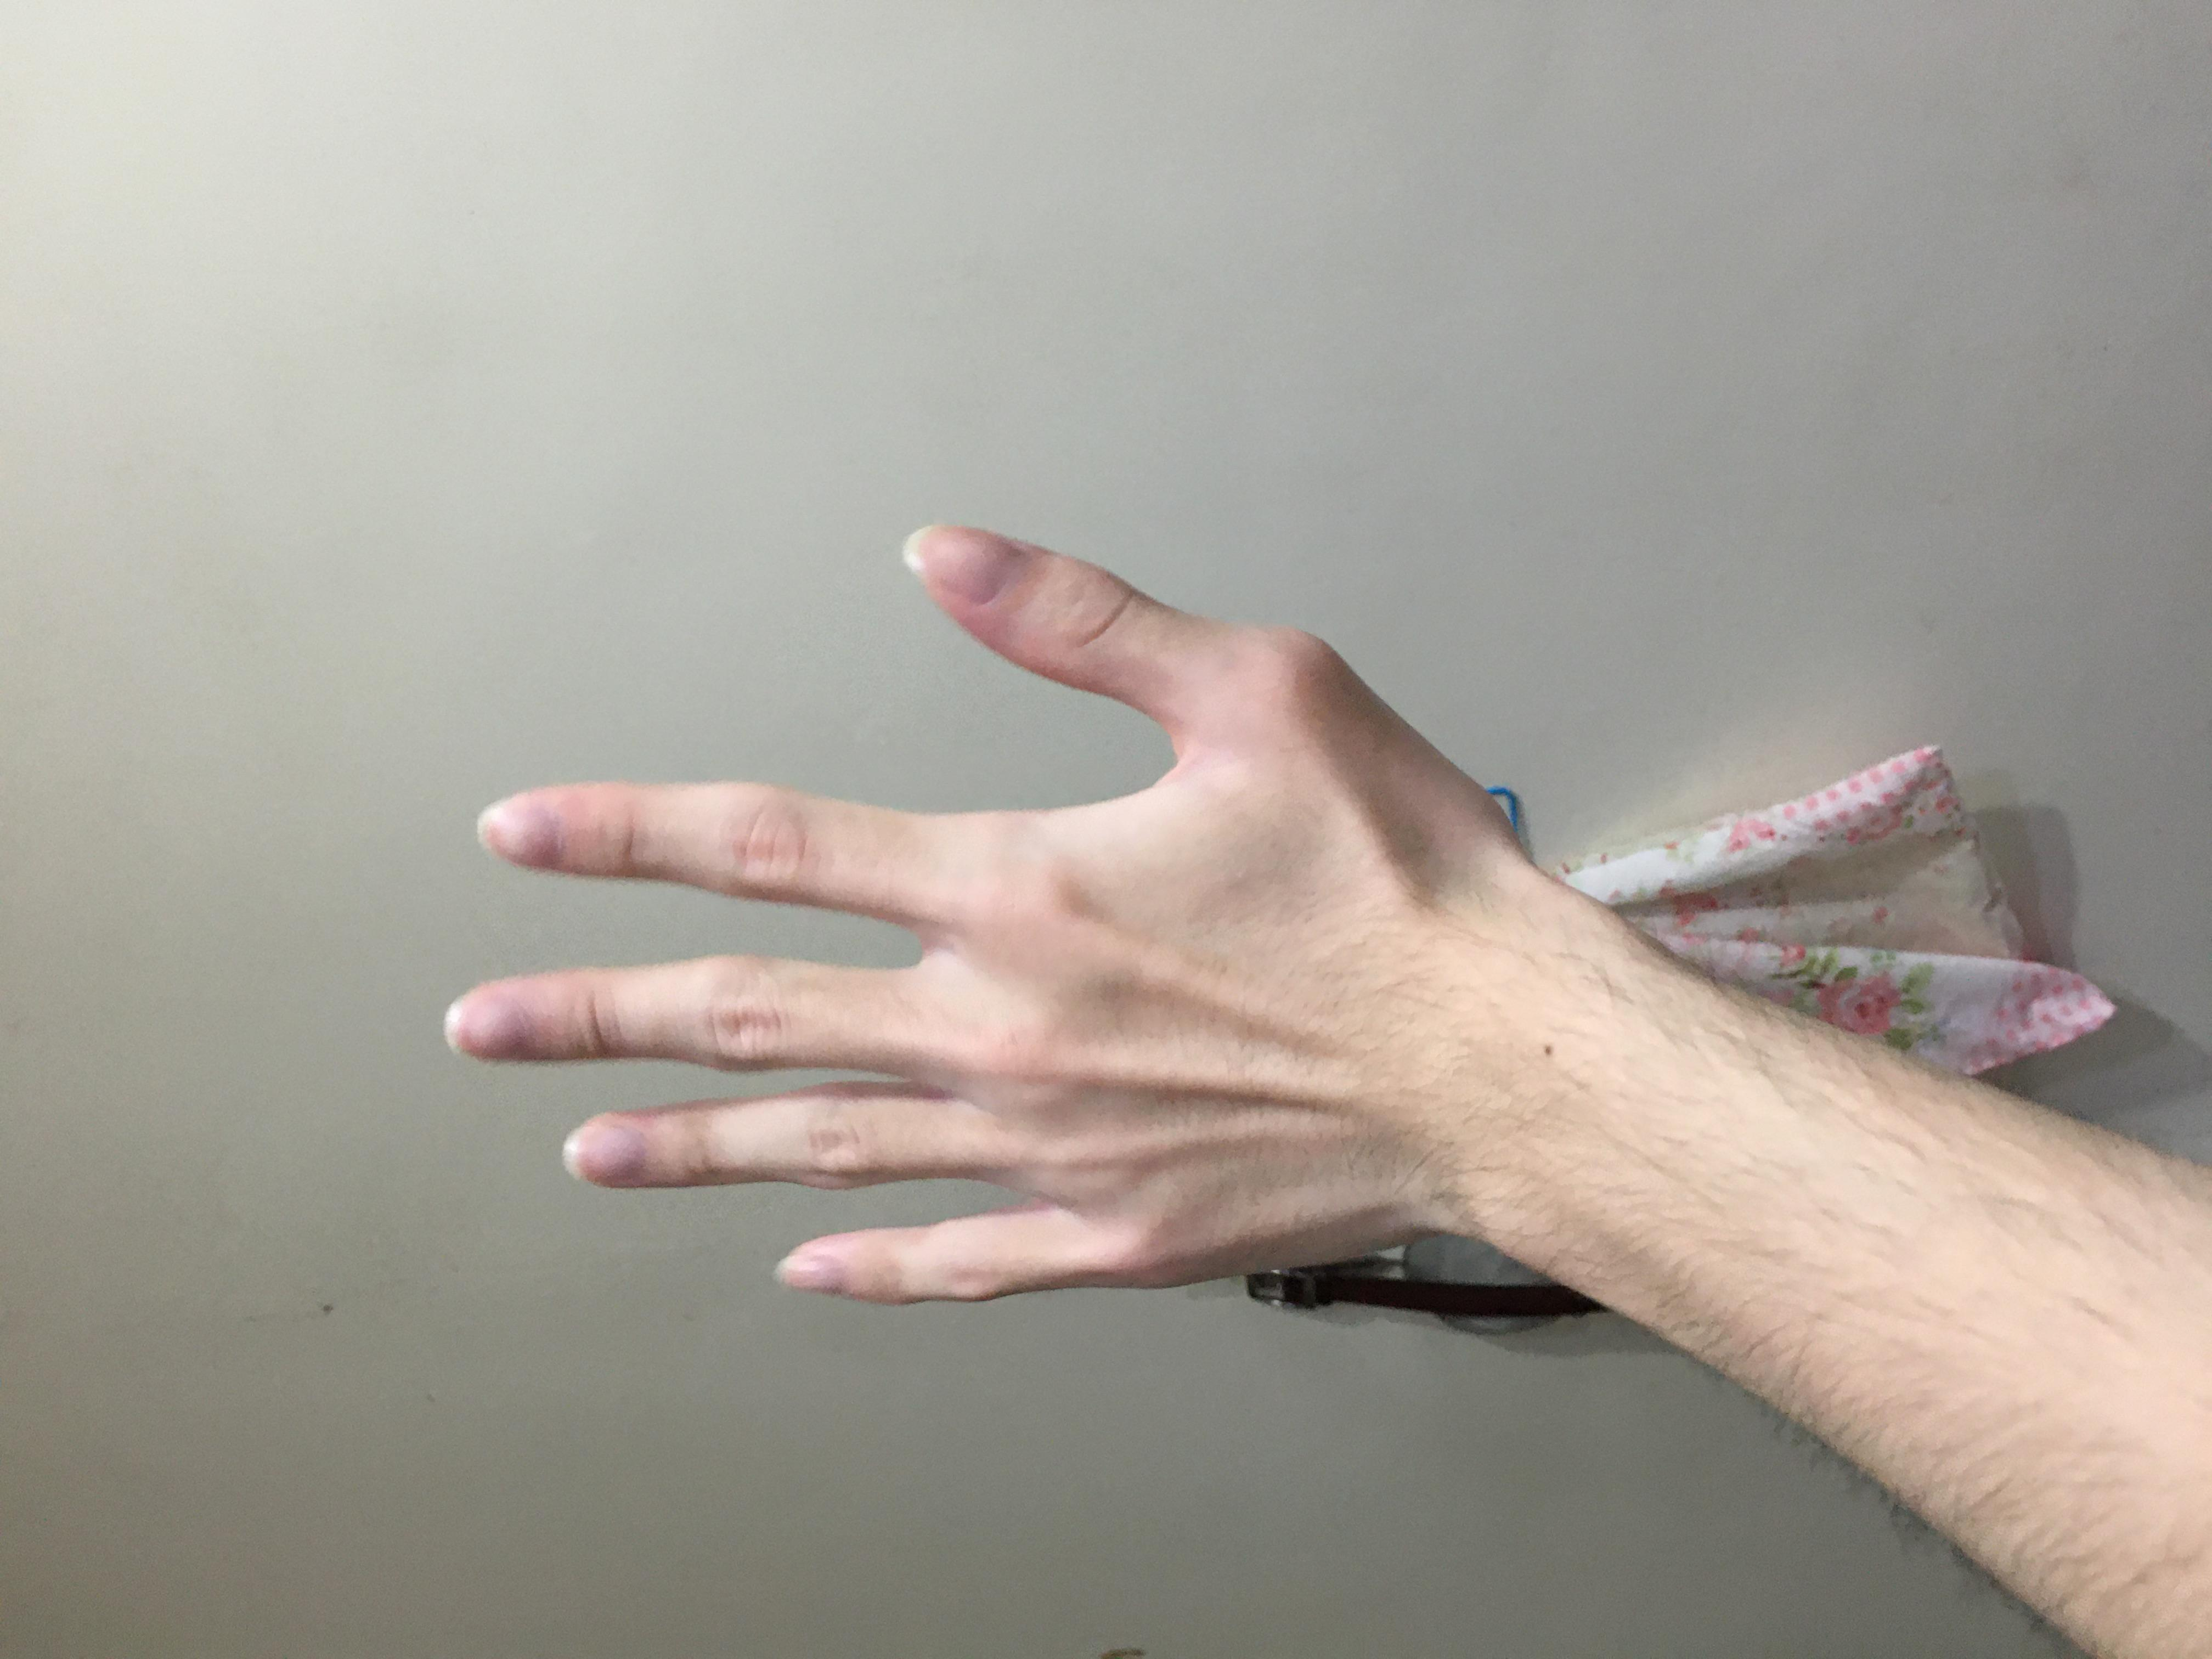hand: (455, 326, 1519, 1115)
